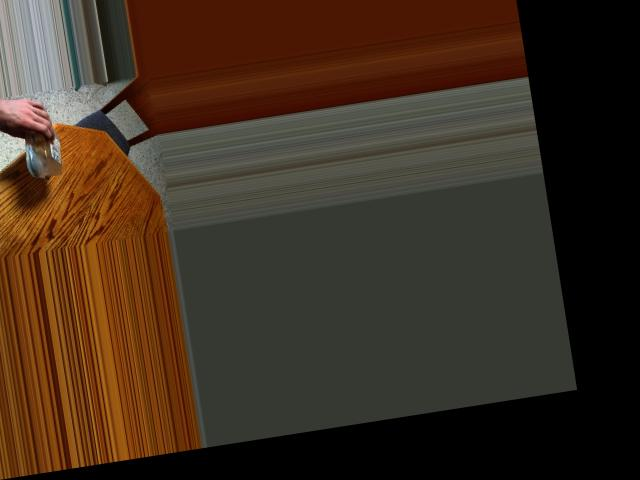cheese: (6, 113, 74, 187)
